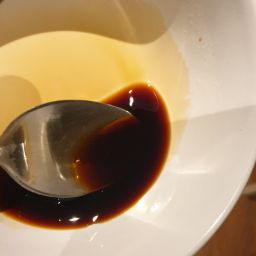Soy Sauce: (1, 101, 174, 225)
